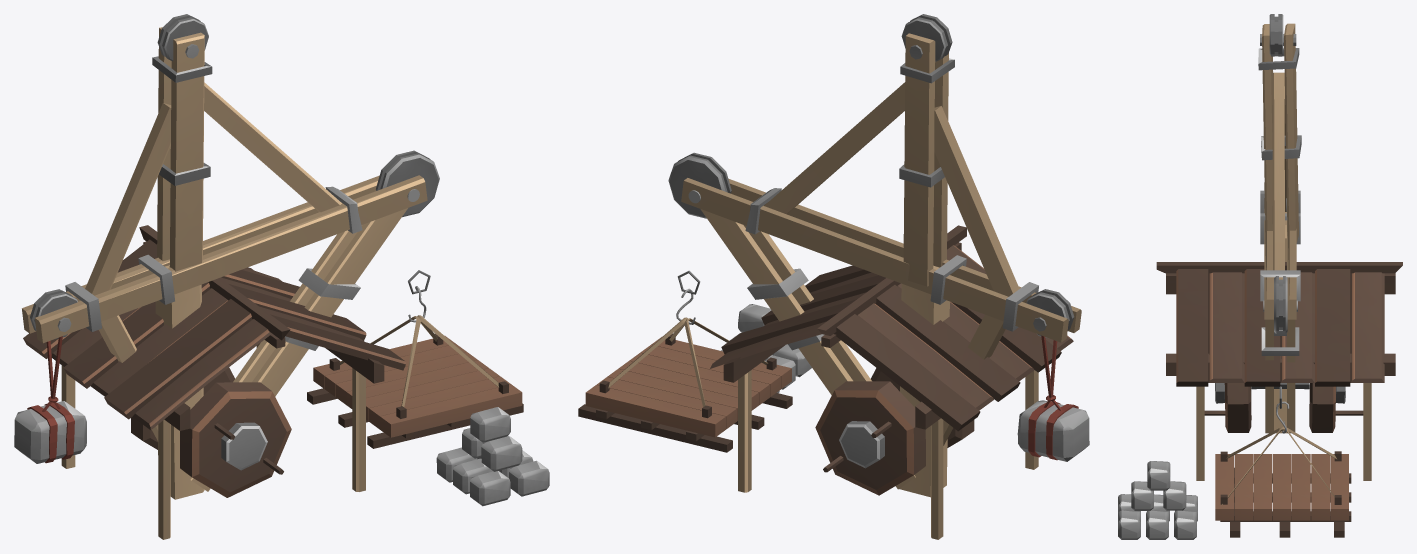
The model's file is winch_3lvl_separate.fbx.
The picture shows the model from 3 angles, left to right: view 1: azimuth 30°, elevation 25°; view 2: azimuth 150°, elevation 25°; view 3: azimuth 270°, elevation 25°; orthographic projection. The views are drawn at different scales.
Parts seen in each view (by area): view 1: winch_3lvl, base_ver2, thebiggest_wheel_ver2, polySurface5, big_wheel, small_wheel1, small_wheel; view 2: winch_3lvl, base_ver2, thebiggest_wheel_ver2, polySurface5, big_wheel, small_wheel1, small_wheel; view 3: winch_3lvl, base_ver2, thebiggest_wheel_ver2, big_wheel, small_wheel1.
Part boxes in pixels (x1,y1,x2,y2): winch_3lvl: (22, 27, 549, 539); base_ver2: (307, 270, 523, 448); thebiggest_wheel_ver2: (131, 367, 291, 497); polySurface5: (14, 336, 86, 463); big_wheel: (376, 150, 439, 217); small_wheel1: (157, 14, 208, 61); small_wheel: (30, 289, 77, 339); winch_3lvl: (681, 33, 1081, 539); base_ver2: (578, 270, 792, 452); thebiggest_wheel_ver2: (815, 368, 974, 495); polySurface5: (1017, 335, 1089, 461); big_wheel: (668, 152, 731, 218); small_wheel1: (901, 14, 952, 61); small_wheel: (1026, 289, 1074, 338); winch_3lvl: (1118, 23, 1402, 539); base_ver2: (1215, 386, 1351, 537); thebiggest_wheel_ver2: (1204, 383, 1363, 432); big_wheel: (1274, 276, 1287, 333); small_wheel1: (1269, 14, 1283, 56).
Bounding box in the file's own units: 7.18 × 6.9 × 4.35.
